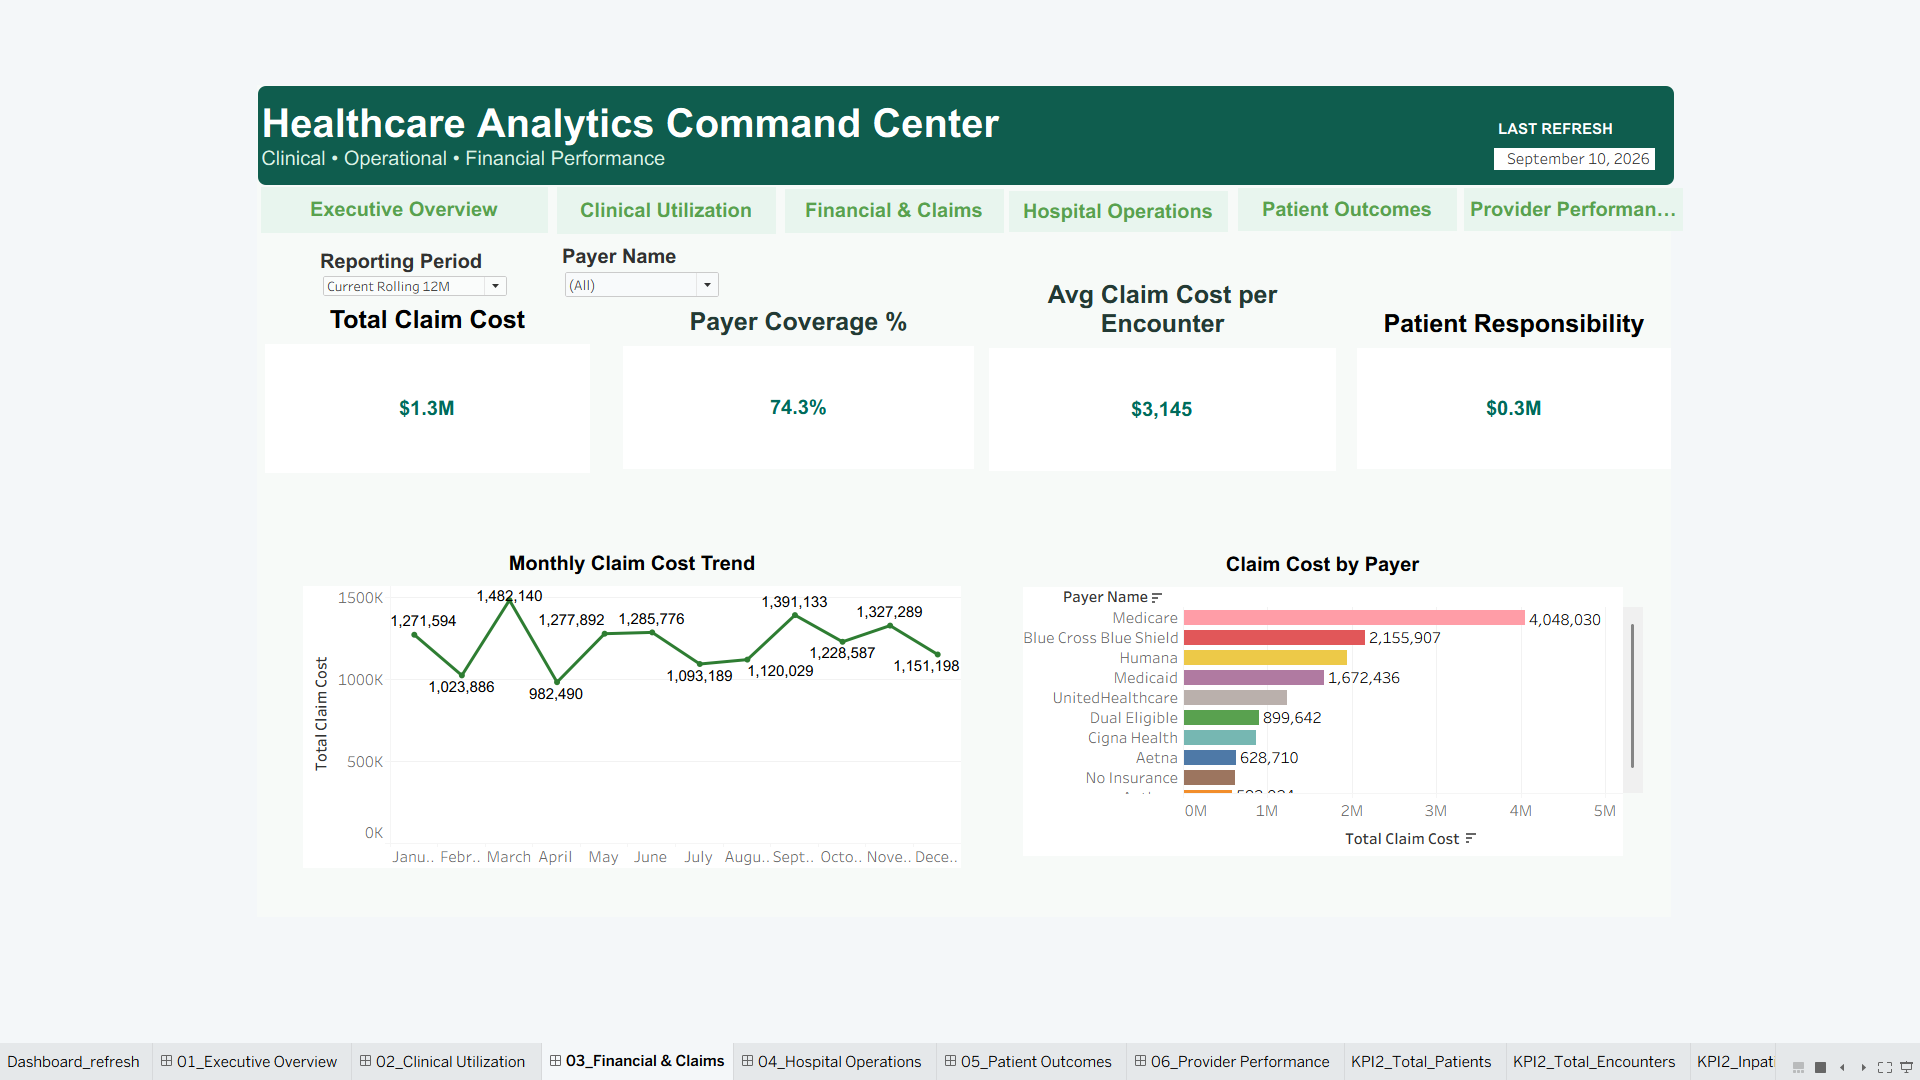

Layout of this report page (visuals, bound fields, positions):
{"tool":"tableau","page":{"name":"03_Financial & Claims","canvas":[1440,900],"ordinal":2},"visuals":[{"type":"text","box":[14.4,11.2,1424.2,106.9]},{"type":"dashboard-object","box":[21,116,287,46]},{"type":"dashboard-object","box":[317,116,219,47]},{"type":"dashboard-object","box":[998,117,219,43]},{"type":"dashboard-object","box":[1224,117,219,43]},{"type":"dashboard-object","box":[545,118,219,44]},{"type":"dashboard-object","box":[769,120,219,41]},{"type":"filter","title":"FIN_CHT_Payer_Cost","param":"[federated.1ghdjs607npq5a1byeo491ds8nkz].[none:payer_name:nk]","box":[322,174,160,281]},{"type":"parameter","param":"[Parameters].[Parameter 0280968702808064]","box":[80,179,190,48]},{"type":"worksheet","title":"FIN_KPI_Avg_Claim_Cost","mark":"Automatic","box":[749,205,347,195]},{"type":"worksheet","title":"FIN_KPI_Total_Claim_Cost","mark":"Automatic","box":[25,230,325,172]},{"type":"worksheet","title":"FIN_KPI_Payer_Coverage","mark":"Automatic","box":[383,232,351,166]},{"type":"worksheet","title":"FIN_KPI_Patient_Responsibility","mark":"Automatic","box":[1117,234,314,164]},{"type":"worksheet","title":"FIN_CHT_Claim_Cost_Trend","mark":"Automatic","rows":["total_claim_cost"],"cols":["month_start"],"box":[63,477,658,320]},{"type":"worksheet","title":"FIN_CHT_Payer_Cost","mark":"Automatic","rows":["payer_name"],"cols":["total_claim_cost"],"box":[783,478,620,307]}]}

Visuals, with their boxes on the page's 1440x900 design canvas (x1, y1, x2, y2). These are canvas units, not pixel positions in the 1920x1080 screenshot, which may show the page scaled, cropped or inside an application window:
text: select_region(14, 11, 1439, 118)
dashboard-object: select_region(21, 116, 308, 162)
dashboard-object: select_region(317, 116, 536, 163)
dashboard-object: select_region(998, 117, 1217, 160)
dashboard-object: select_region(1224, 117, 1443, 160)
dashboard-object: select_region(545, 118, 764, 162)
dashboard-object: select_region(769, 120, 988, 161)
"FIN_CHT_Payer_Cost" filter: select_region(322, 174, 482, 455)
parameter: select_region(80, 179, 270, 227)
"FIN_KPI_Avg_Claim_Cost" worksheet: select_region(749, 205, 1096, 400)
"FIN_KPI_Total_Claim_Cost" worksheet: select_region(25, 230, 350, 402)
"FIN_KPI_Payer_Coverage" worksheet: select_region(383, 232, 734, 398)
"FIN_KPI_Patient_Responsibility" worksheet: select_region(1117, 234, 1431, 398)
"FIN_CHT_Claim_Cost_Trend" worksheet: select_region(63, 477, 721, 797)
"FIN_CHT_Payer_Cost" worksheet: select_region(783, 478, 1403, 785)
